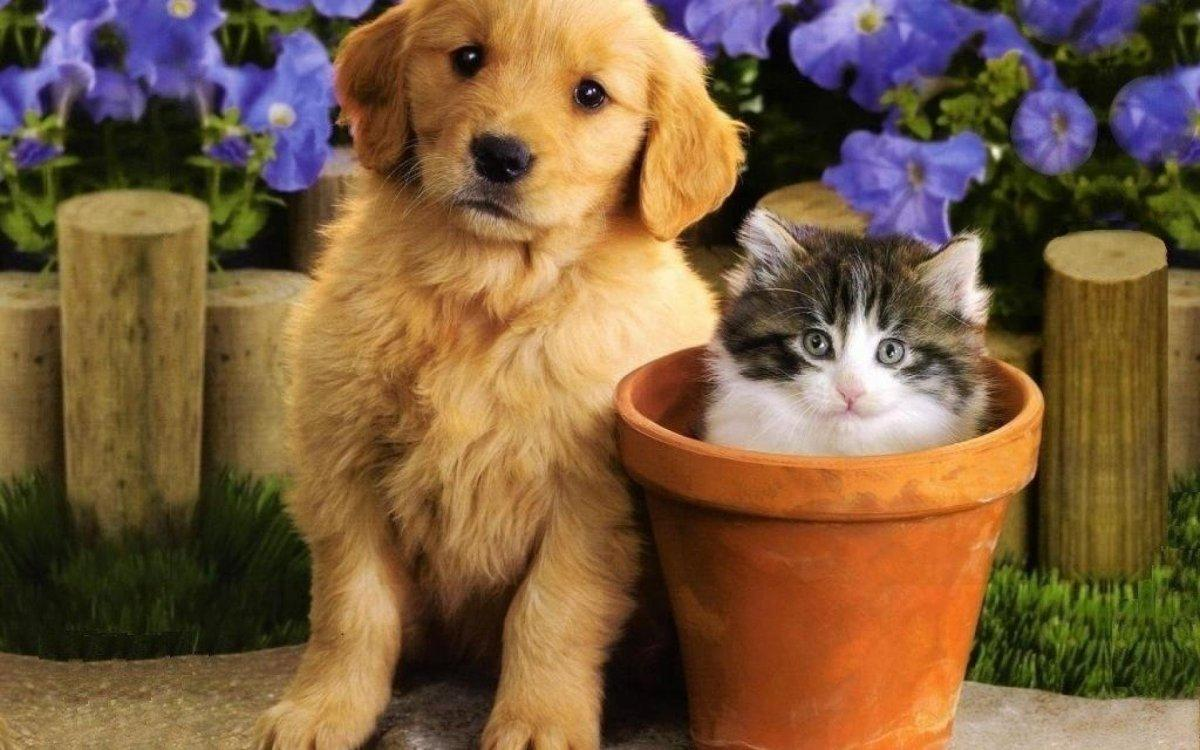animals: (306, 0, 726, 378), (730, 202, 991, 450)
